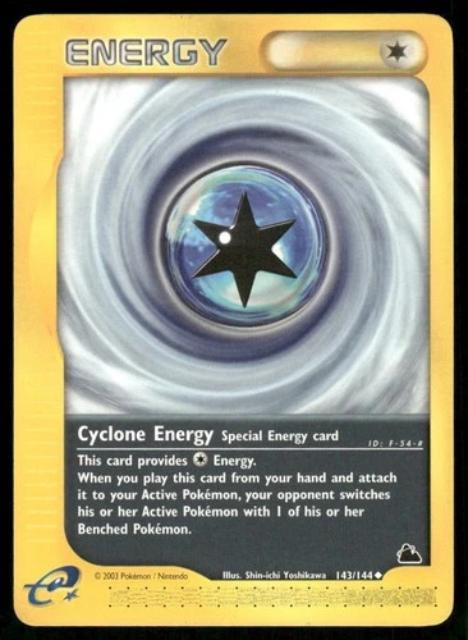Card: (6, 7, 459, 634)
Name: (73, 421, 221, 451)
